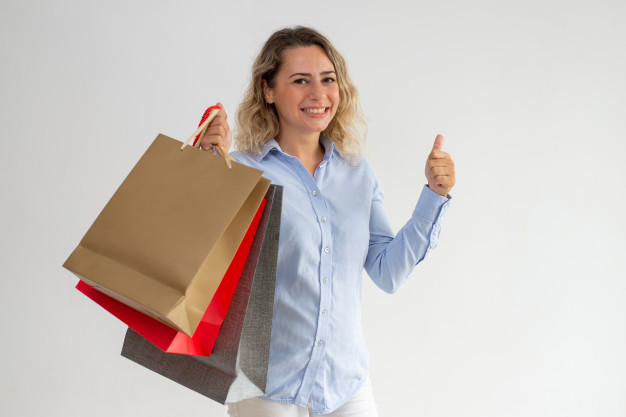thumbsup: (425, 132, 456, 188)
